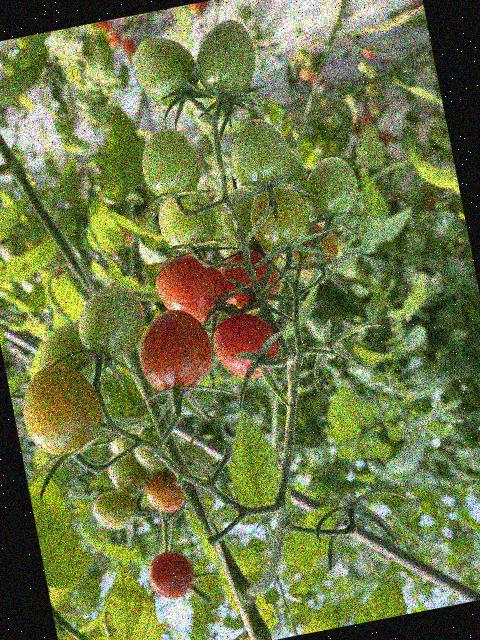l_fully_ripened: (131, 303, 218, 401), (151, 246, 232, 328), (207, 304, 285, 384), (217, 243, 285, 317), (145, 546, 200, 603)
l_green: (15, 354, 110, 462), (70, 280, 151, 366), (128, 29, 204, 112), (224, 114, 298, 197), (31, 317, 110, 393), (188, 15, 261, 97), (136, 123, 207, 206), (245, 179, 315, 257), (153, 184, 222, 260), (297, 152, 365, 226), (216, 183, 265, 253), (104, 449, 153, 499), (90, 487, 142, 532), (280, 145, 311, 199)
l_half_ripened: (279, 216, 343, 283), (142, 469, 188, 515)
